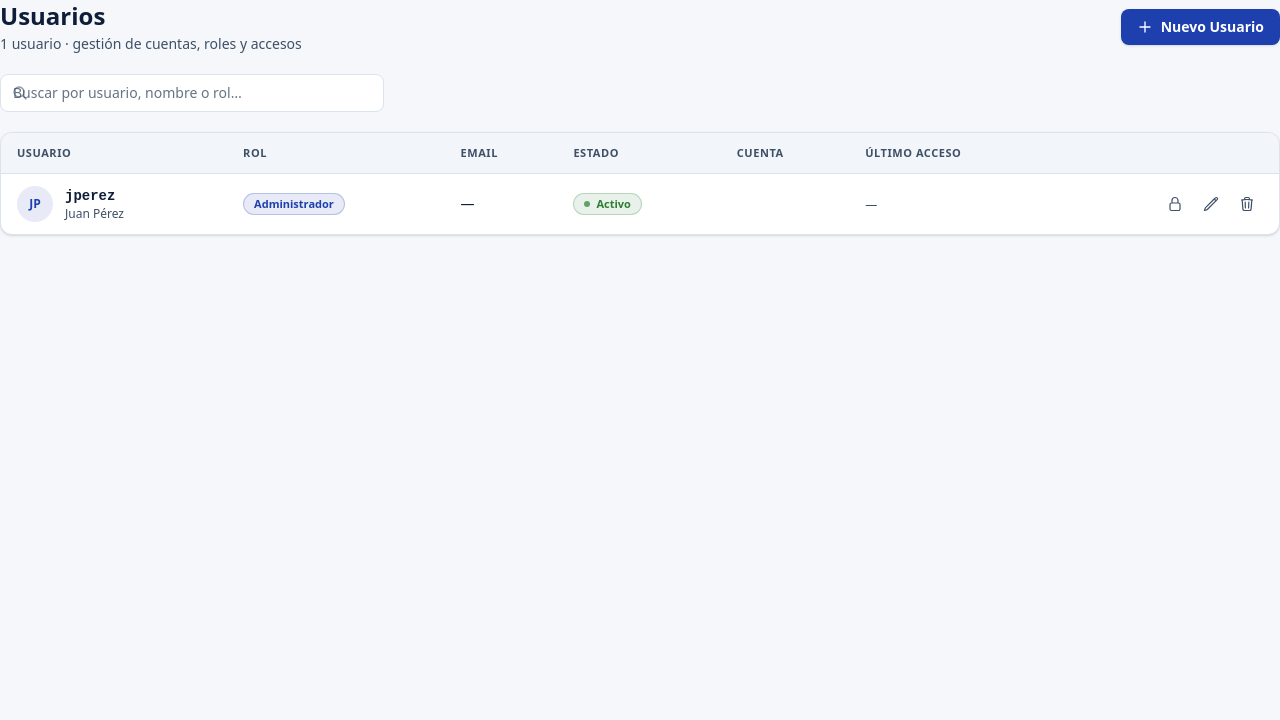
Test: ramas de gestión de la página de Usuarios › forzar cambio de contraseña: validaciones, error y éxito
Expected: the text "Juan Pérez" is shown, [65,206,124,222]
Step 1. Click the button named "Forzar cambio de contraseña para Juan Pérez" → (1175, 204), box [1159,188,1191,220]
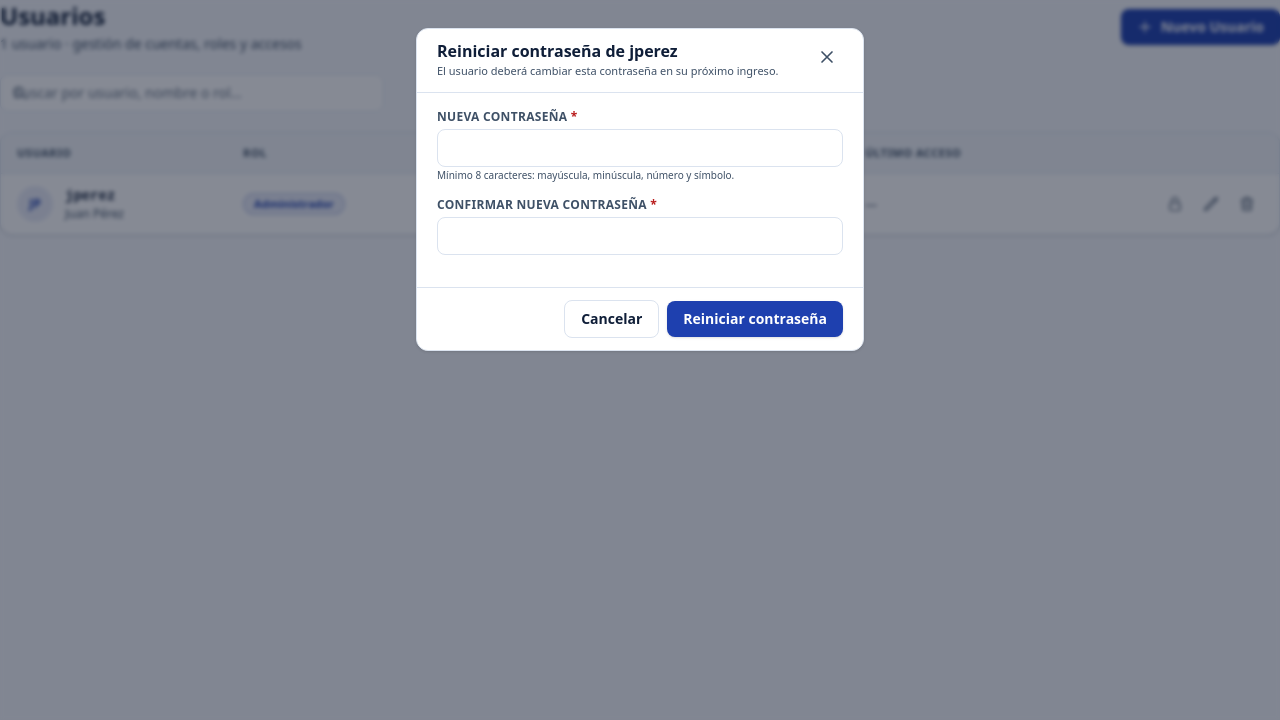
Result: the dialog shows "Reiniciar contraseña de jperez" at [437,40,678,62]
Result: the number of password fields is 2 at [437,128,843,166]; [437,217,843,255]
Step 2. Click the button "Reiniciar contraseña" → (755, 319), box [667,301,843,337]
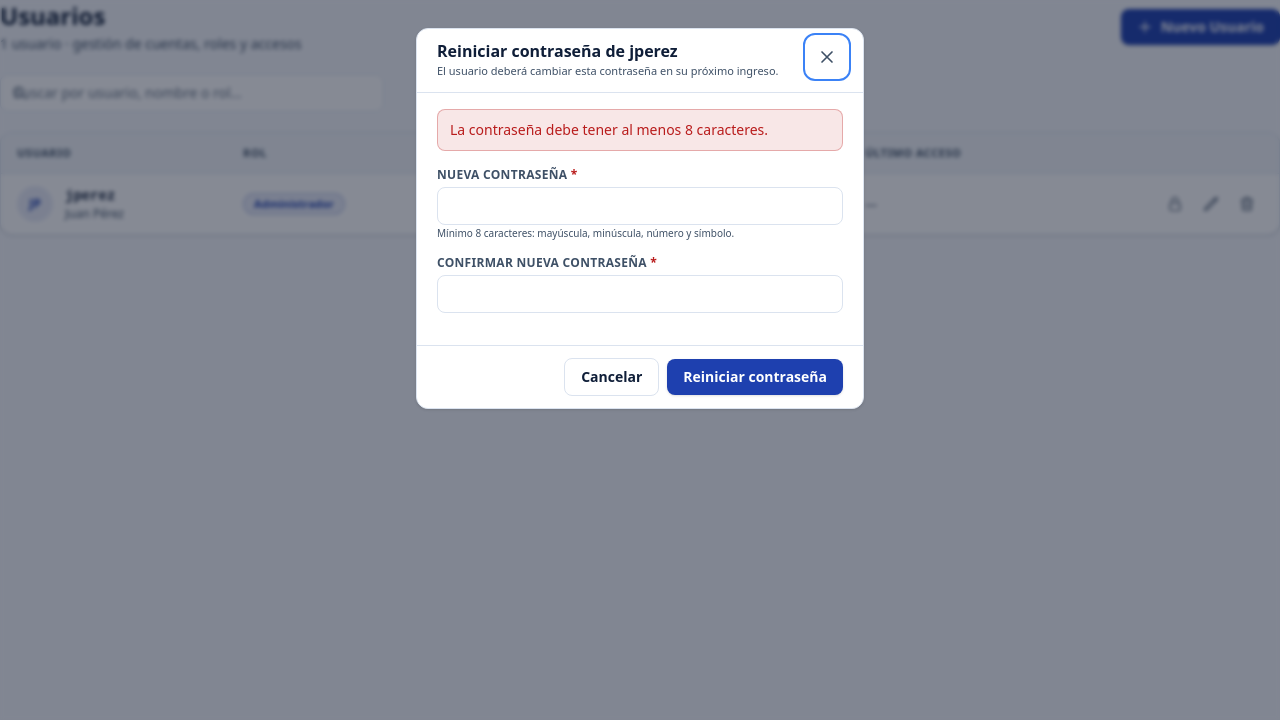
Result: the message reads "La contraseña debe tener al menos 8 caracteres." at [450,120,768,138]
Step 3. Type "secreta12" into the password field labelled "Nueva contraseña *" → (640, 206), box [437,186,843,224]
Step 4. Type "OTRA1234" into the password field labelled "Confirmar nueva contraseña *" → (640, 294), box [437,275,843,313]
Step 5. Click the button "Reiniciar contraseña" → (755, 377), box [667,359,843,395]
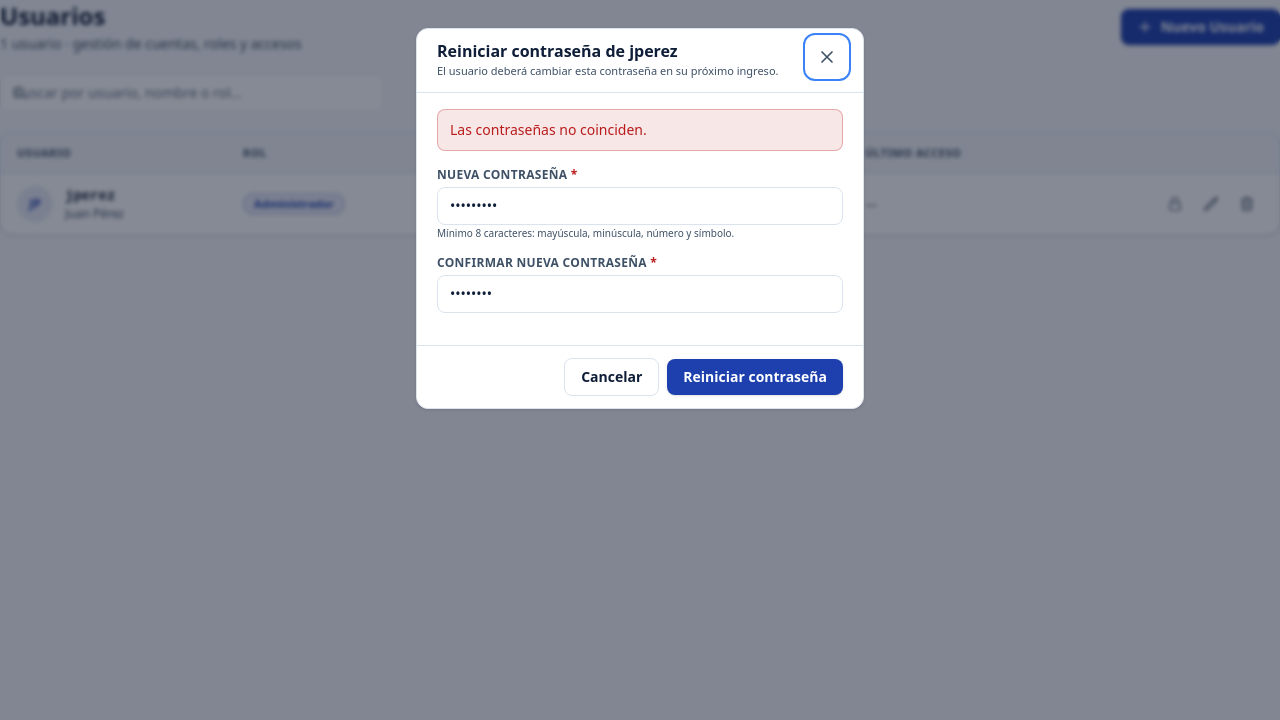
Result: the message reads "Las contraseñas no coinciden." at [450,120,647,138]
Error del backend
Step 6. Type "secreta12" into the password field labelled "Confirmar nueva contraseña *" → (640, 294), box [437,275,843,313]
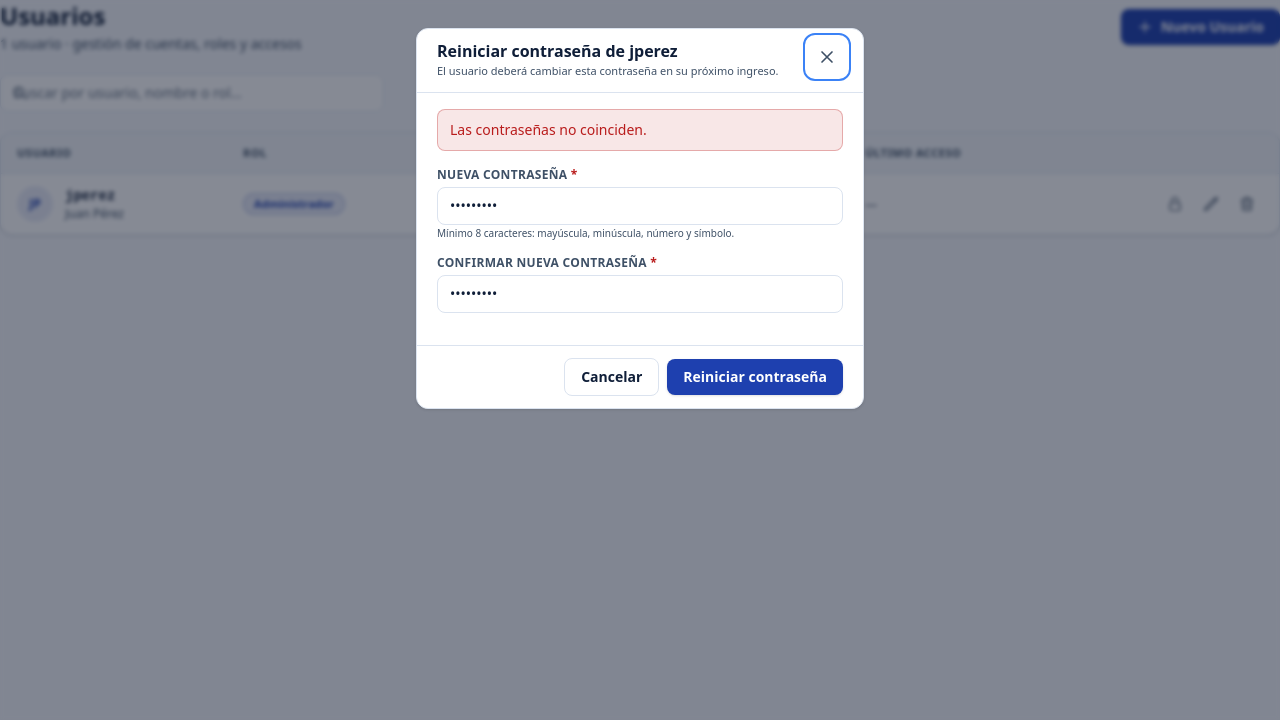
Step 7. Click the button "Reiniciar contraseña" → (755, 377), box [667,359,843,395]
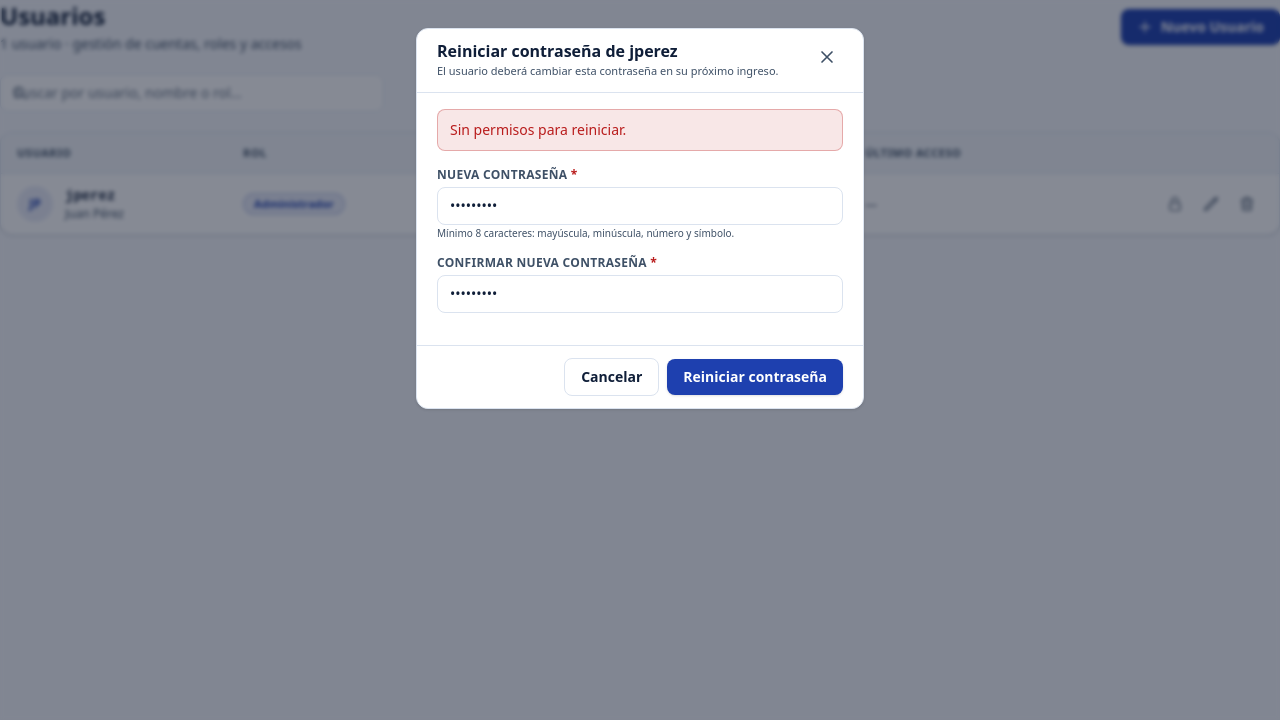
Result: the dialog is shown
Result: the message reads "Sin permisos para reiniciar." at [450,120,626,138]
Step 8. Click the button "Reiniciar contraseña" → (755, 377), box [667,359,843,395]
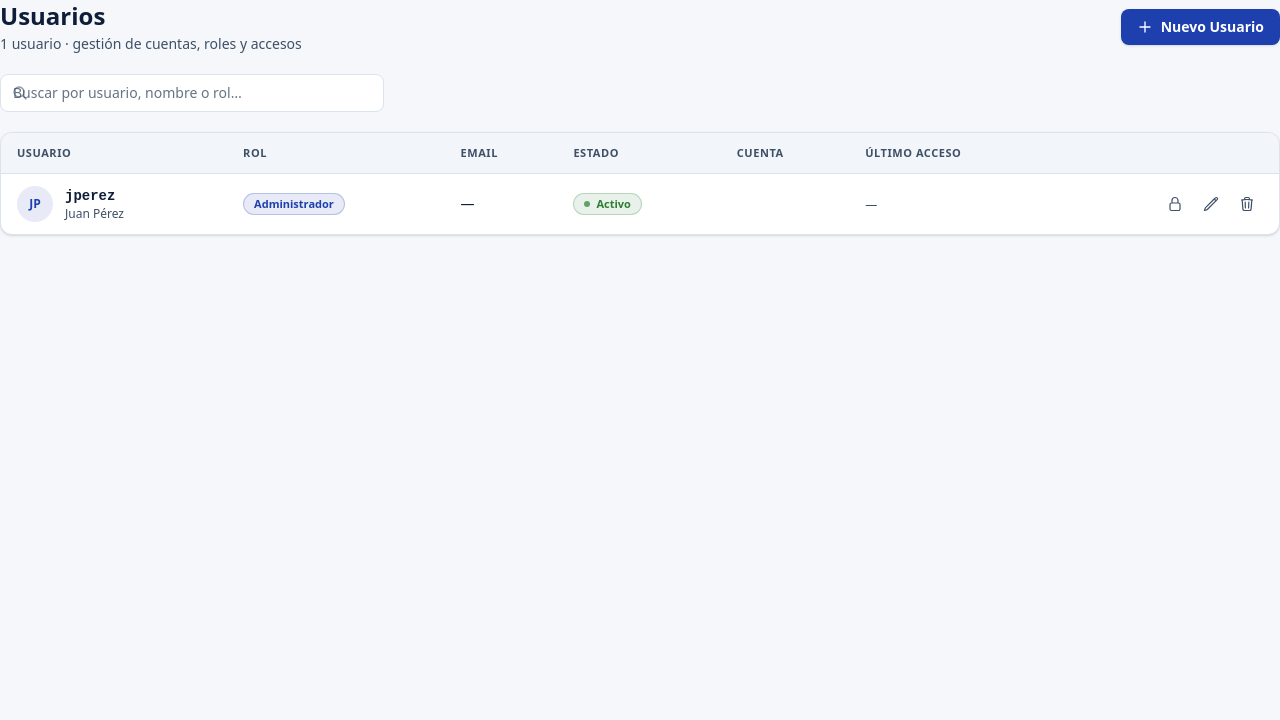
Result: the dialog is gone
